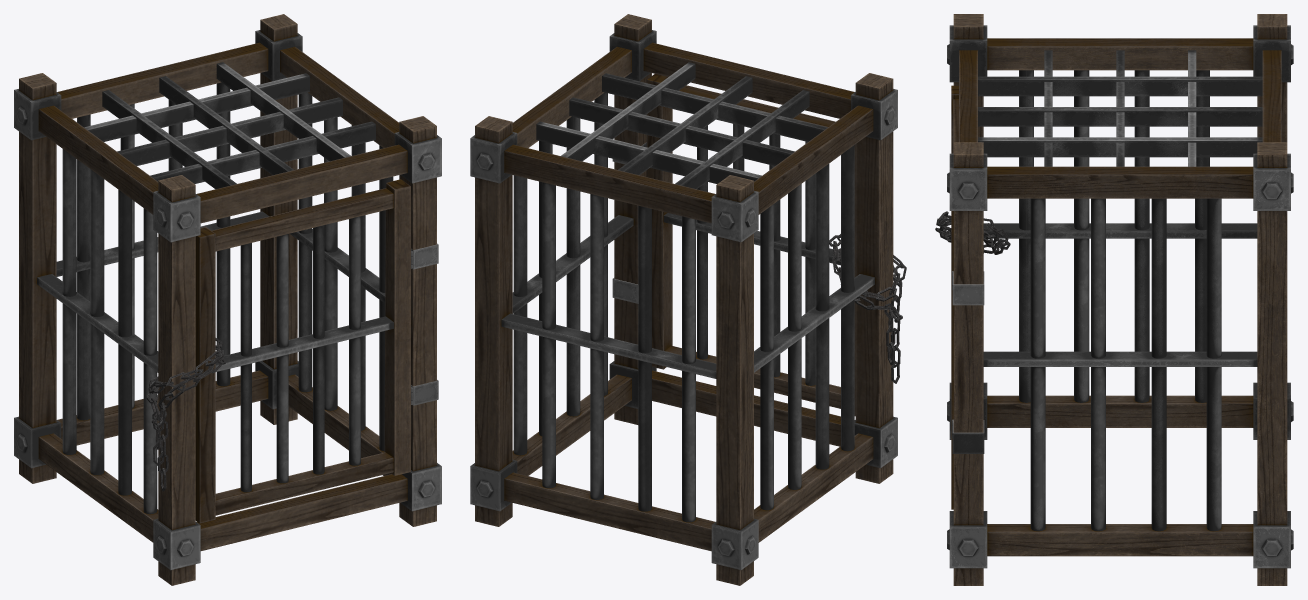
File: cage_wooden_01.fbx
3 renders of one model, left to right at view 1: azimuth 30°, elevation 25°; view 2: azimuth 150°, elevation 25°; view 3: azimuth 270°, elevation 25°, orthographic. The views are drawn at different scales.
Parts seen in each view (by area): view 1: cage_wooden_01, cage_wooden_01_door, cage_wooden_01_chainLock; view 2: cage_wooden_01, cage_wooden_01_door, cage_wooden_01_chainLock; view 3: cage_wooden_01, cage_wooden_01_door, cage_wooden_01_chainLock.
Boxes of the visible parts, x1,y1,x2,y2 form: cage_wooden_01: [14, 14, 441, 585]; cage_wooden_01_door: [195, 179, 412, 523]; cage_wooden_01_chainLock: [146, 338, 225, 491]; cage_wooden_01: [470, 14, 897, 585]; cage_wooden_01_door: [646, 74, 855, 416]; cage_wooden_01_chainLock: [829, 234, 906, 383]; cage_wooden_01: [947, 14, 1293, 585]; cage_wooden_01_door: [951, 85, 958, 509]; cage_wooden_01_chainLock: [935, 211, 1010, 254].
Bounding box in the file's own units: 199 × 265 × 200.
